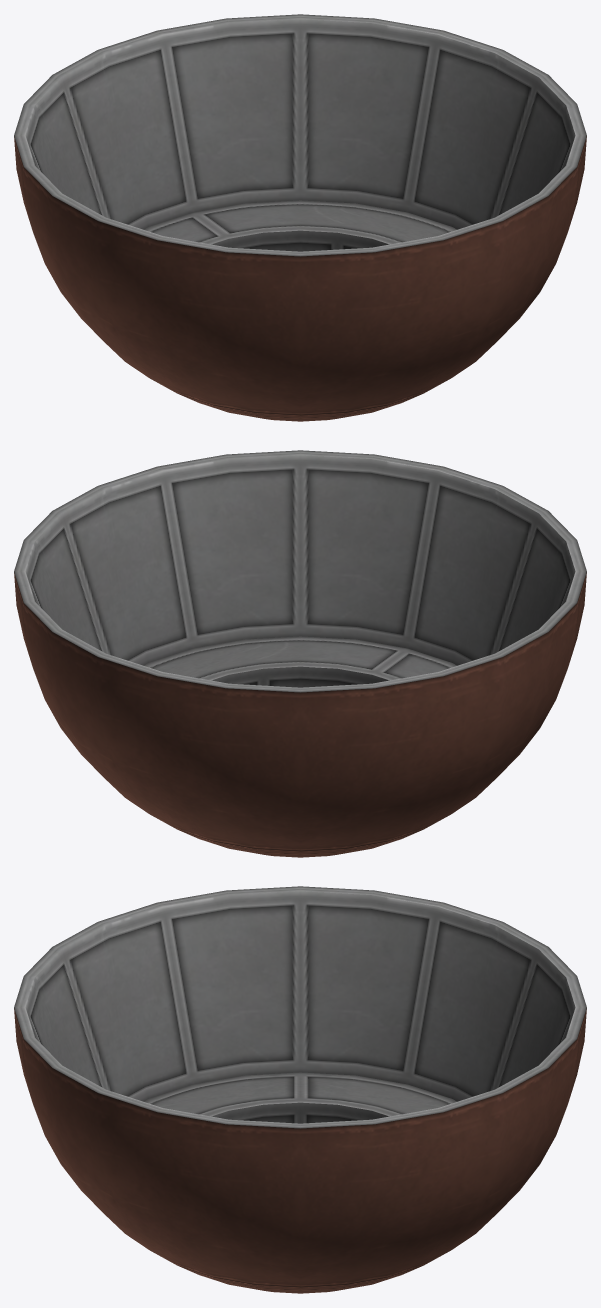
The model's file is 4m_hemisphere_heatshield_s1_2.obj.
3 views of the same model, one above another, from view 1: azimuth 30°, elevation 25°; view 2: azimuth 150°, elevation 25°; view 3: azimuth 270°, elevation 25° (orthographic).
Visible parts, largest first — view 1: mesh1, cap1; view 2: mesh1, cap1; view 3: mesh1, cap1.
Boxes of the visible parts, x1,y1,x2,y2 form: mesh1: (14, 14, 586, 414); cap1: (179, 394, 421, 421); mesh1: (14, 450, 586, 850); cap1: (179, 830, 421, 857); mesh1: (14, 886, 586, 1286); cap1: (179, 1266, 421, 1293).
Size of the model in its own units: 1.25 by 0.625 by 1.25.
Materials: 1 (1 with a texture image).
